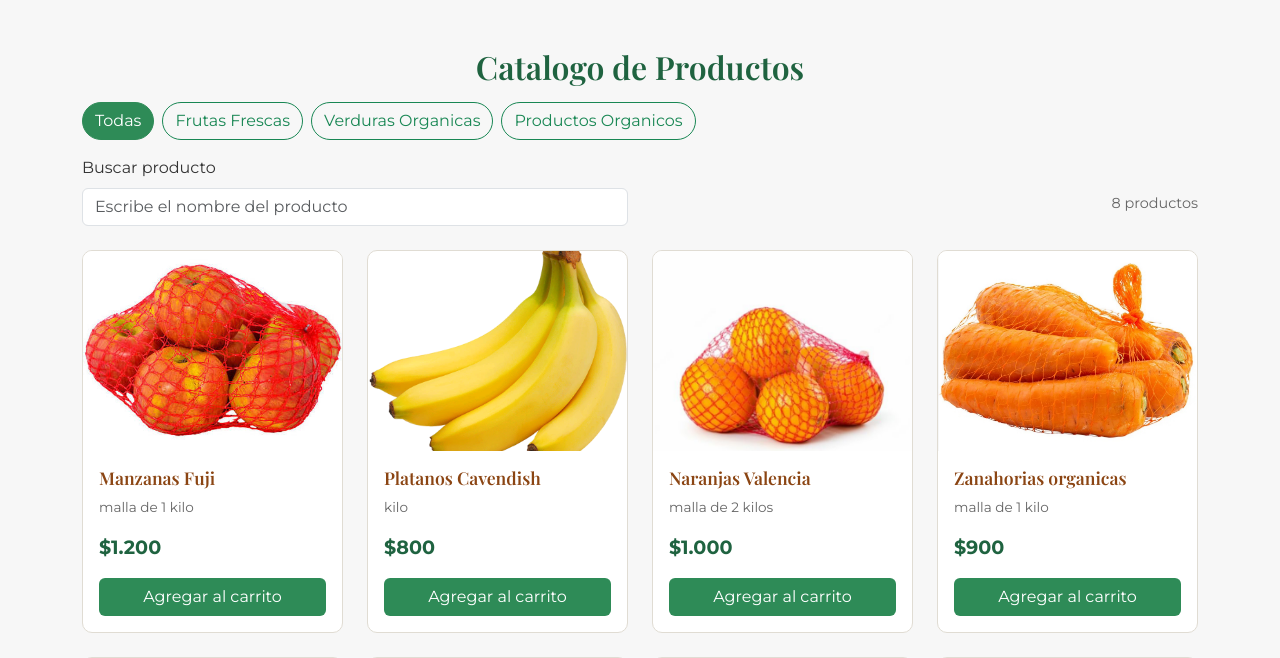
Vista Catalogo › filtra por el texto del buscador, sin importar mayusculas
The image size is (1280, 658).
In the search field labelled "Buscar producto": (355, 207) [82, 188, 628, 226], type "PALTA"
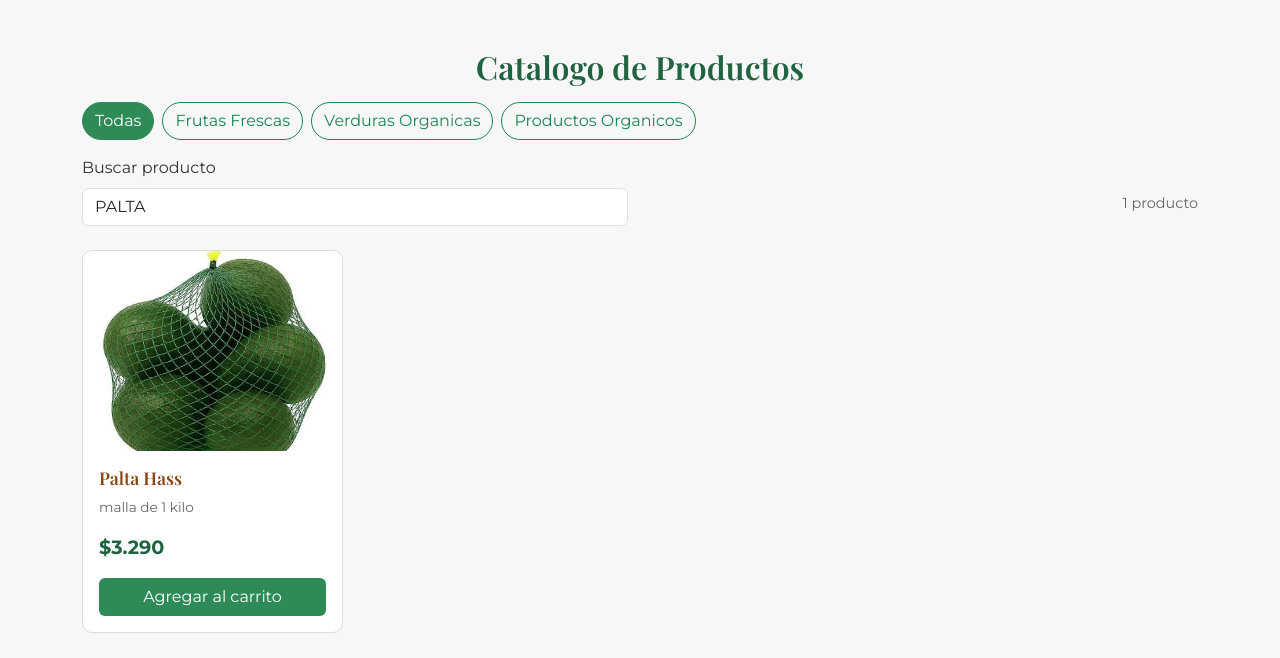
Expected: the heading "Palta Hass" is shown, [99, 466, 182, 489]
Expected: the text "1 producto" is shown, [1122, 194, 1198, 212]
